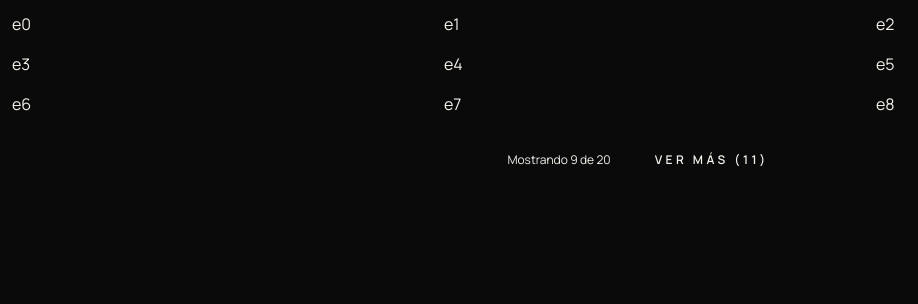
Test: buscar y explorar sin lista infinita › listas largas con «Ver más»
Later steps or results of the test are not shown.
What coordinates should you click on to do the following:
click the button "Ver más (11)"
I would click on:
 (712, 160)
Its box is x1=627 y1=136 x2=796 y2=184.
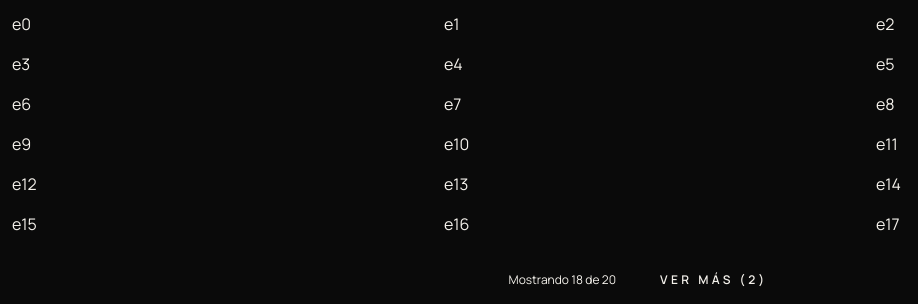
Result: the text "e0" is shown 18 times
